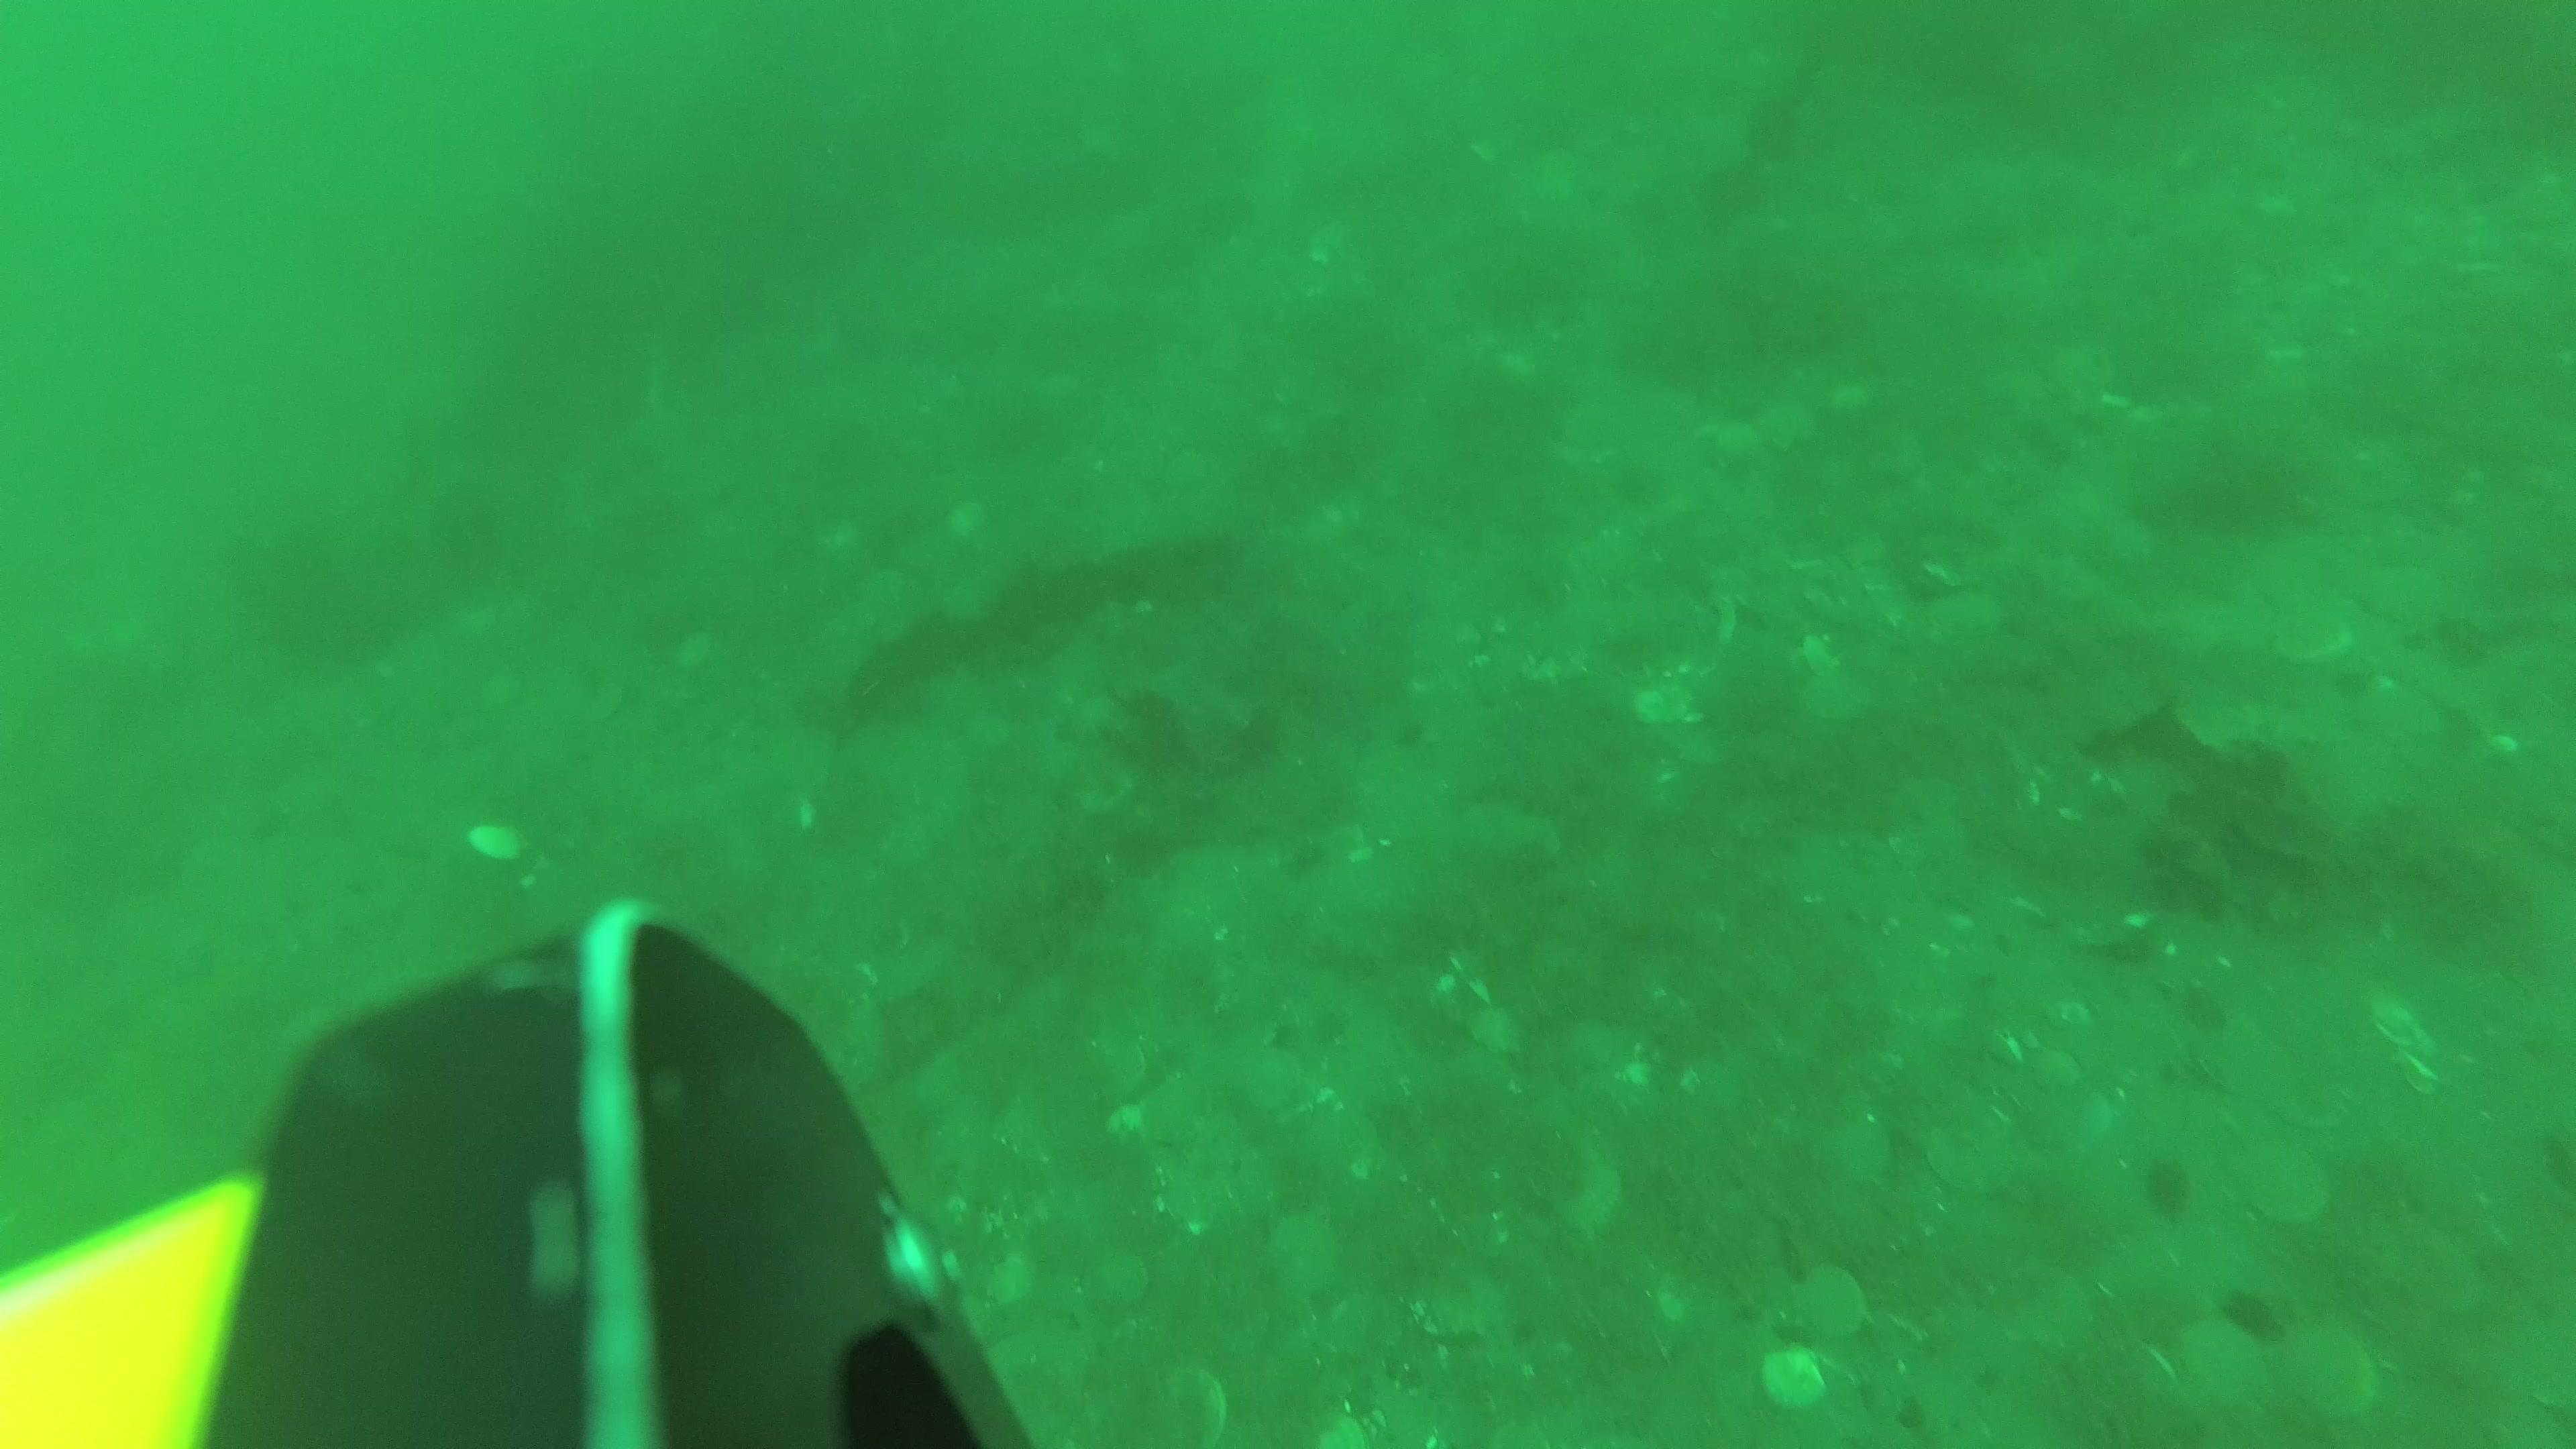scallop: (2376, 1196, 2480, 1315), (2187, 1008, 2302, 1109), (2173, 1316, 2273, 1421), (2231, 1136, 2330, 1233), (1454, 791, 1562, 878), (2286, 1318, 2380, 1417), (1780, 1256, 1877, 1348), (1263, 1212, 1346, 1304), (1803, 1116, 1898, 1196), (1925, 1115, 2015, 1194), (1410, 1269, 1507, 1341), (1161, 1357, 1231, 1449), (1138, 1067, 1215, 1150), (1550, 1154, 1626, 1233), (1757, 1343, 1833, 1419), (1081, 1246, 1162, 1316), (1235, 1039, 1304, 1120), (2272, 609, 2364, 669), (1921, 587, 2001, 648), (1798, 667, 1879, 725), (1088, 1030, 1152, 1102), (1472, 1003, 1532, 1060), (460, 817, 531, 865), (1626, 681, 1697, 729)
